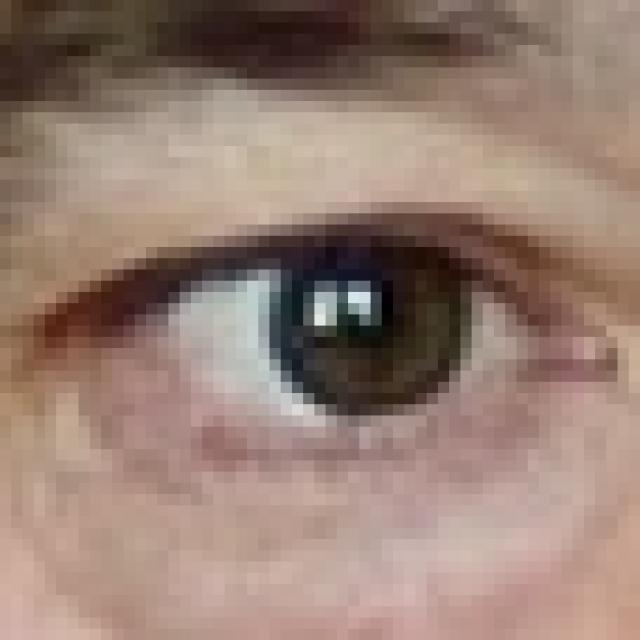eye: (19, 145, 626, 550)
gaze: (251, 220, 495, 423)
